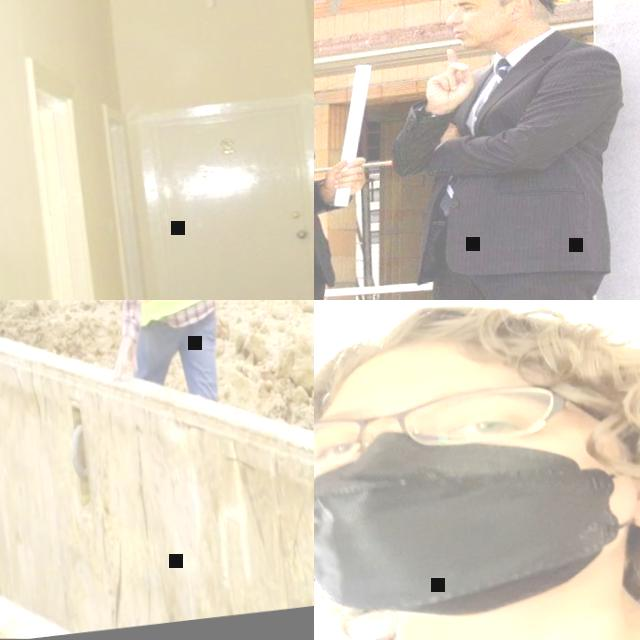helmet: (433, 0, 570, 16)
mask: (314, 399, 640, 635)
no_helmet: (314, 300, 640, 416)
no_mask: (450, 12, 520, 50)
no_vest: (404, 40, 640, 279)
person: (314, 300, 640, 640), (314, 0, 640, 300), (314, 0, 413, 300), (68, 300, 232, 413)
